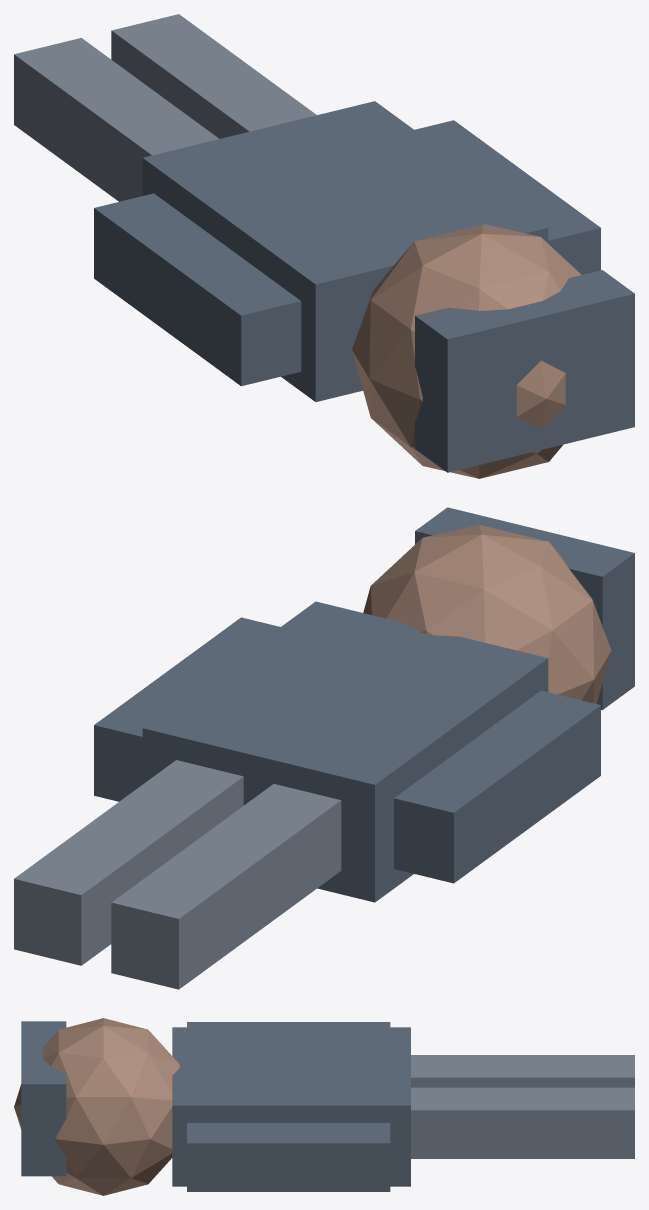
Rendered from ceo_variant_4.glb.
3 views of the same model, one above another, from view 1: azimuth 30°, elevation 25°; view 2: azimuth 150°, elevation 25°; view 3: azimuth 270°, elevation 25° (orthographic). The views are drawn at different scales.
Parts seen in each view (by area): view 1: torso_2, hair_6, head_5, arm_l_3, leg_l_0, leg_r_1, arm_r_4; view 2: torso_2, leg_l_0, head_5, arm_l_3, leg_r_1, arm_r_4, hair_6; view 3: torso_2, head_5, leg_r_1, arm_r_4, leg_l_0, hair_6, arm_l_3.
Part boxes in pixels (x1=…): torso_2: x1=142, y1=101, x2=548, y2=401; hair_6: x1=415, y1=270, x2=634, y2=472; head_5: x1=352, y1=224, x2=581, y2=478; arm_l_3: x1=94, y1=193, x2=301, y2=386; leg_l_0: x1=14, y1=38, x2=218, y2=201; leg_r_1: x1=111, y1=14, x2=316, y2=138; arm_r_4: x1=414, y1=120, x2=600, y2=274; torso_2: x1=142, y1=601, x2=548, y2=902; leg_l_0: x1=111, y1=784, x2=341, y2=989; head_5: x1=363, y1=524, x2=611, y2=703; arm_l_3: x1=394, y1=690, x2=600, y2=883; leg_r_1: x1=14, y1=760, x2=243, y2=965; arm_r_4: x1=94, y1=617, x2=280, y2=801; hair_6: x1=415, y1=507, x2=634, y2=709; torso_2: x1=172, y1=1027, x2=410, y2=1186; head_5: x1=14, y1=1018, x2=180, y2=1195; leg_r_1: x1=411, y1=1087, x2=634, y2=1158; arm_r_4: x1=187, y1=1123, x2=390, y2=1191; leg_l_0: x1=411, y1=1055, x2=634, y2=1087; hair_6: x1=21, y1=1021, x2=66, y2=1176; arm_l_3: x1=187, y1=1022, x2=390, y2=1027.
Bounding box in the file's own units: 0.96 × 0.6 × 2.08.
